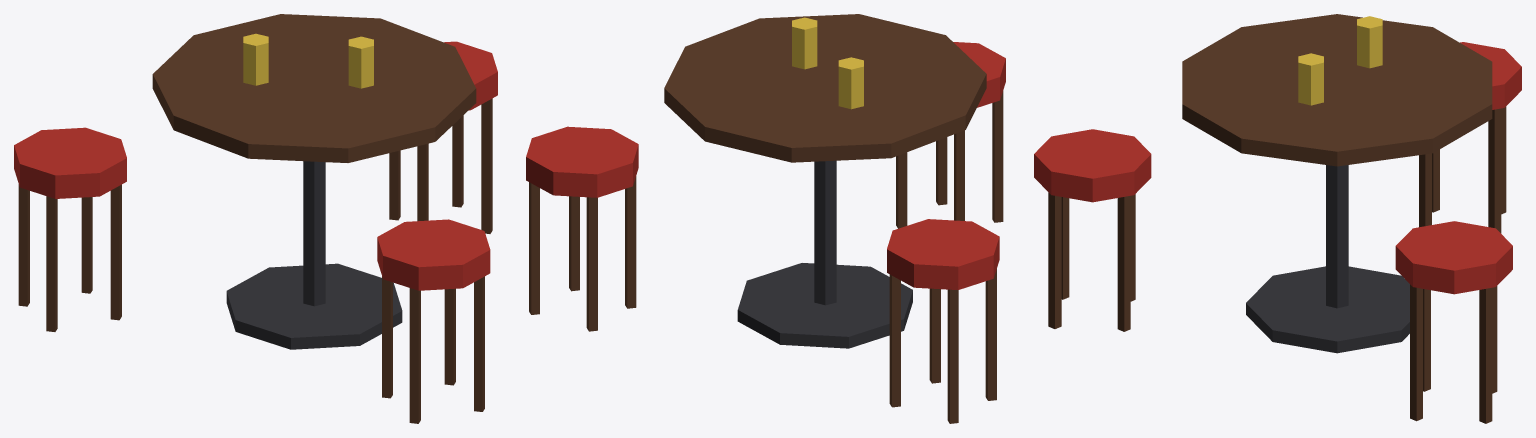
File: interior_pub_table.glb
3 renders of one model, left to right at view 1: azimuth 30°, elevation 25°; view 2: azimuth 150°, elevation 25°; view 3: azimuth 270°, elevation 25°, orthographic.
Visible parts, largest first — view 1: interior_pub_table; view 2: interior_pub_table; view 3: interior_pub_table.
Part boxes in pixels (<box>): interior_pub_table: <box>14,14,497,423</box>; interior_pub_table: <box>526,14,1005,423</box>; interior_pub_table: <box>1034,14,1521,423</box>.
Size of the model in its own units: 1.66 by 0.92 by 1.5.
1 material, 1 textured.
